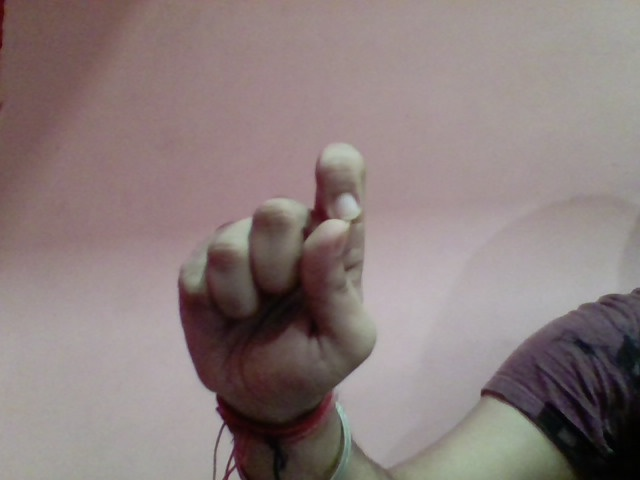t: (161, 125, 390, 419)
